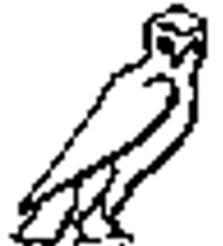Owl: (14, 8, 212, 246)
